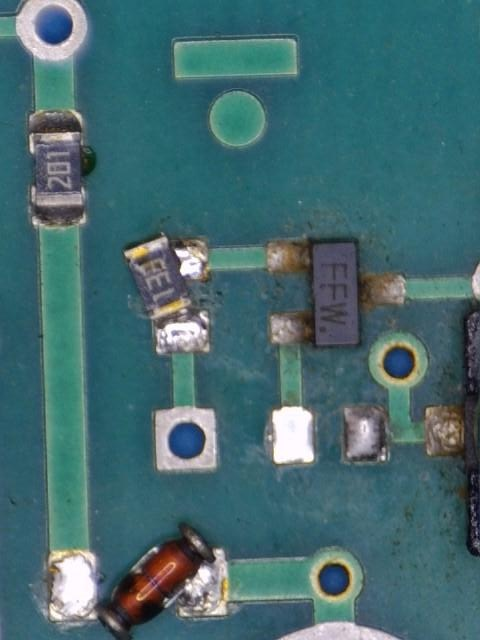pcb_defect: (47, 523, 230, 639), (124, 234, 210, 354)
